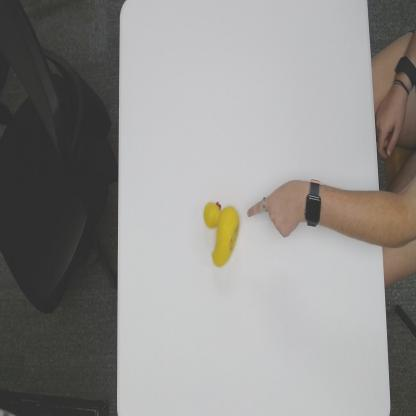Arm: (321, 180, 382, 247)
Duck: (203, 196, 242, 268)
Hand: (246, 176, 305, 239)
